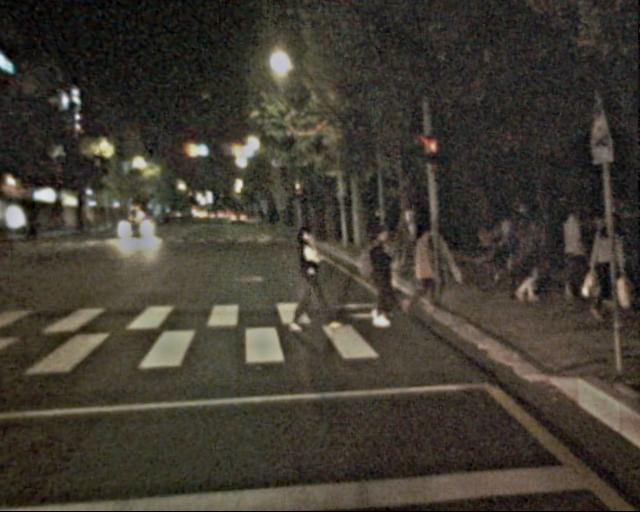person: (284, 224, 330, 336), (583, 215, 629, 326), (357, 226, 398, 325), (558, 206, 597, 300), (500, 214, 543, 299), (403, 226, 440, 317)
